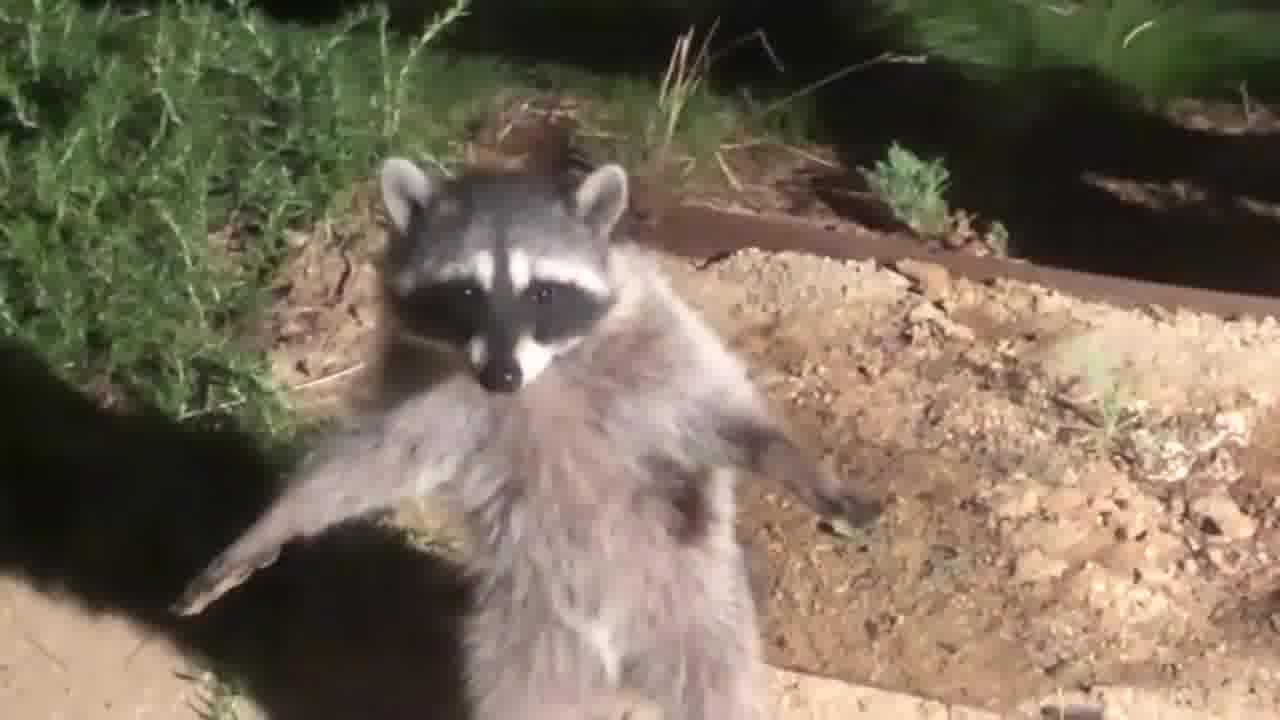raccoon: (163, 134, 902, 720)
